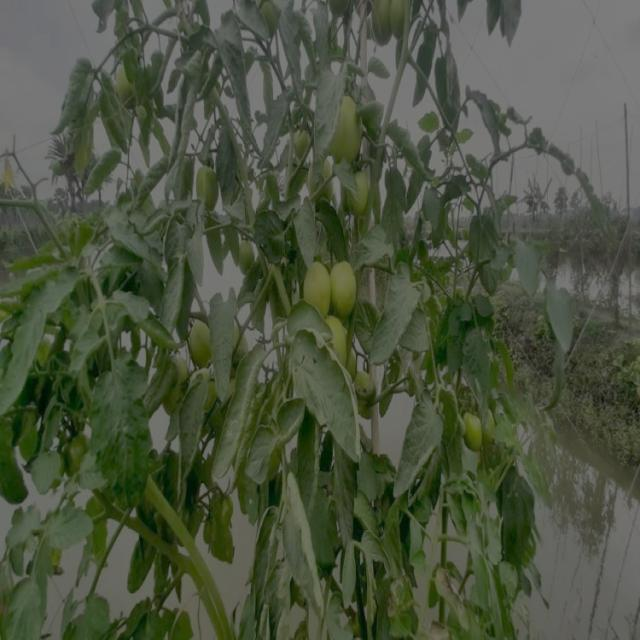tomato: (329, 91, 362, 156), (191, 151, 223, 213), (329, 254, 361, 314), (320, 311, 354, 366), (182, 308, 216, 362), (300, 251, 331, 310), (109, 57, 143, 110), (459, 406, 494, 454), (340, 165, 374, 212), (285, 119, 318, 163), (61, 425, 93, 468), (351, 368, 379, 403), (370, 2, 388, 49), (235, 239, 259, 272), (389, 1, 411, 35), (259, 1, 281, 32)
